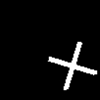single_crochet: (49, 42, 96, 89)
